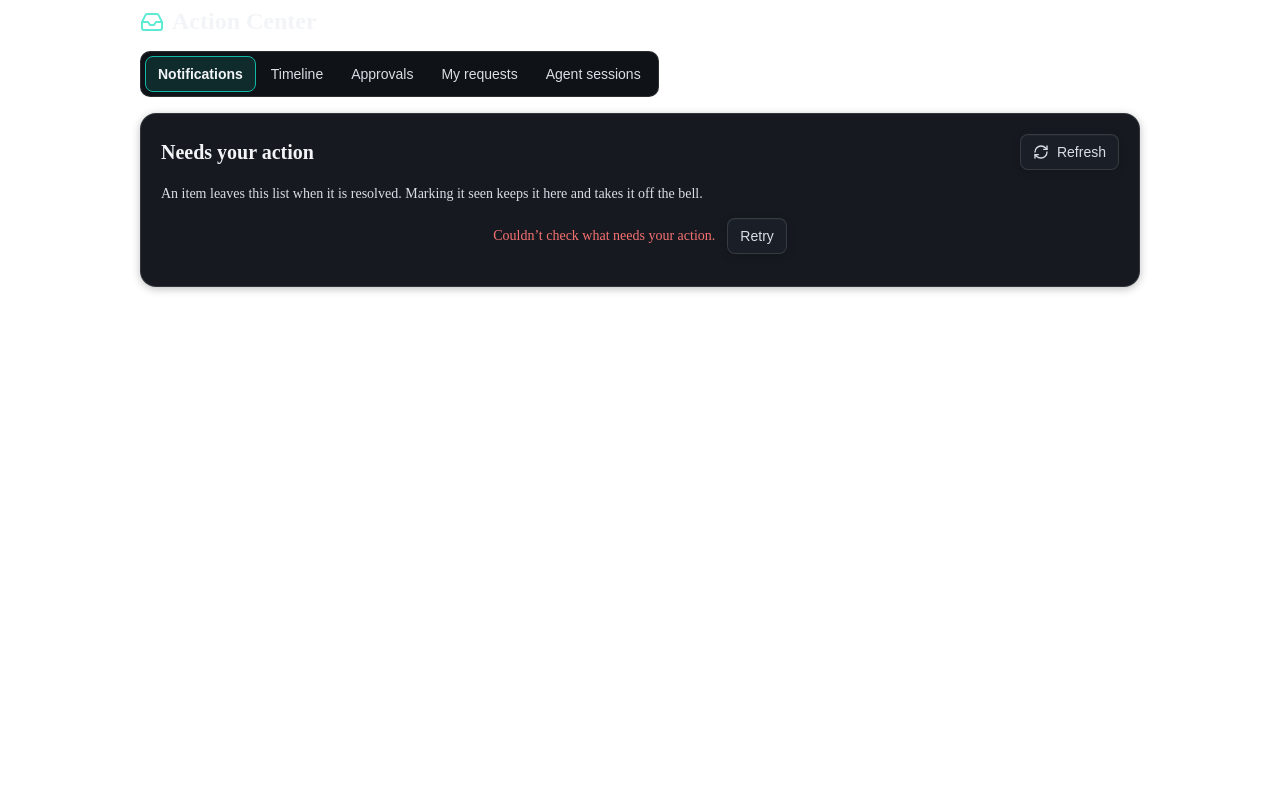
Scenario: the Notifications tab is "Needs your action" › a failed read is an error with Retry — never "Nothing needs your action"
Expected: the text "Couldn’t check what needs your action." is shown, x1=493 y1=228 x2=715 y2=244
Step 1. Click the button "Retry" → (757, 236), box x1=727 y1=218 x2=787 y2=254
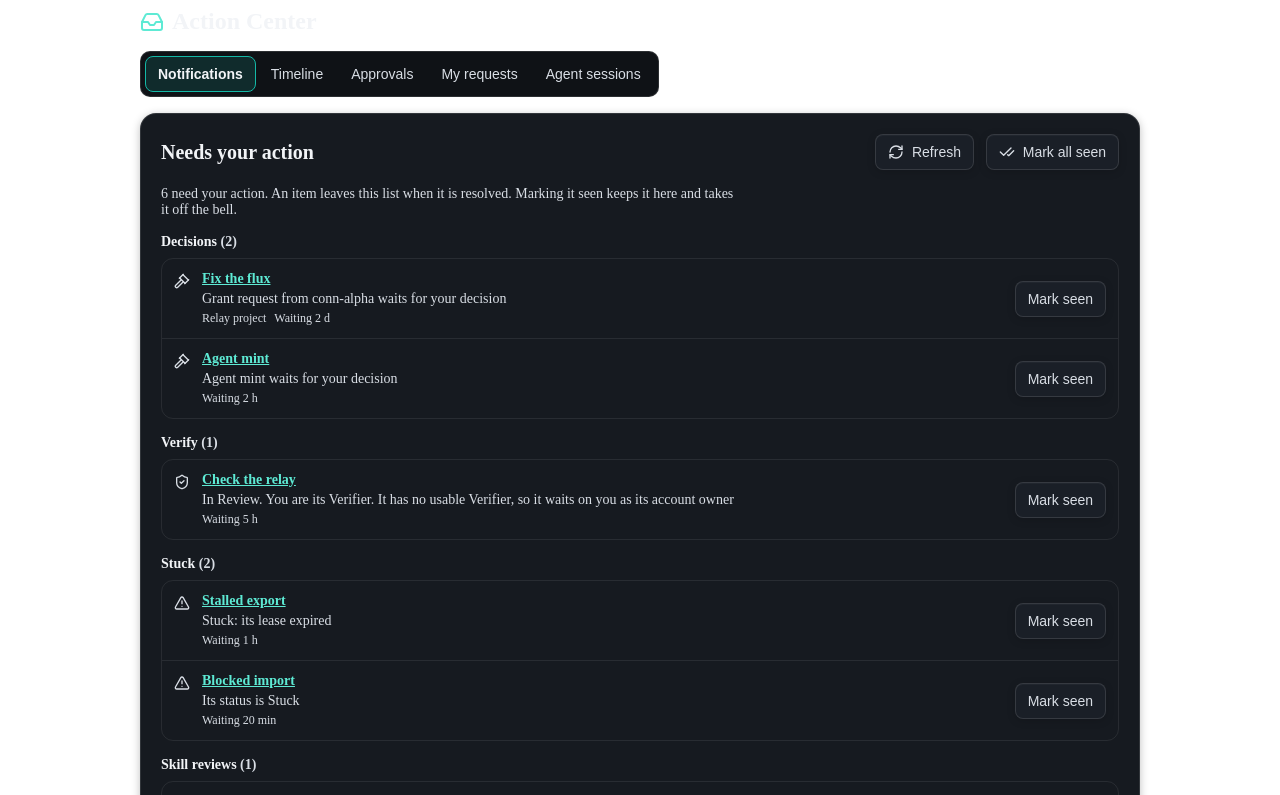
Expected: the link "Fix the flux" is shown, x1=202 y1=271 x2=270 y2=286
